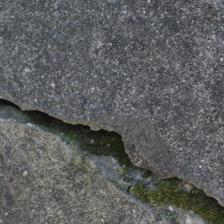Crack: (2, 47, 219, 170)
